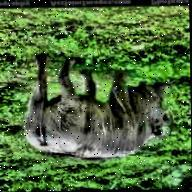boar: (22, 52, 176, 162)
